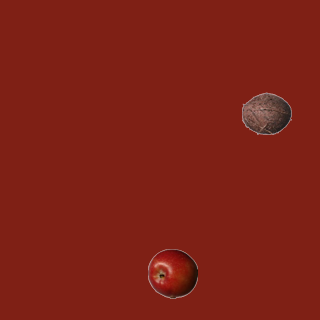Apple Braeburn: (147, 248, 197, 298)
Cocos: (241, 88, 291, 138)
